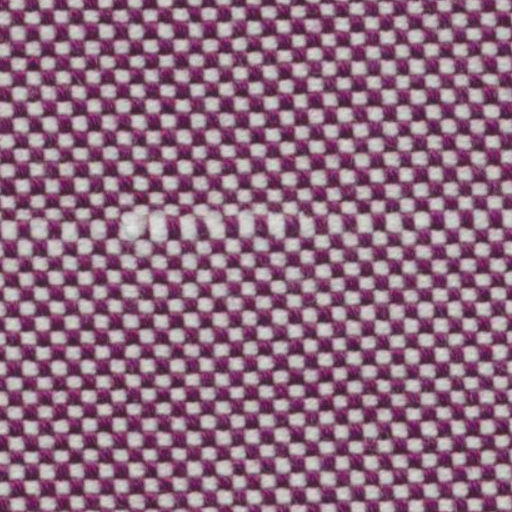DaiSha: (13, 200, 397, 246)
